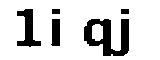1: (11, 5, 44, 49)
i: (51, 6, 66, 51)
j: (112, 4, 135, 60)
q: (82, 14, 113, 58)
